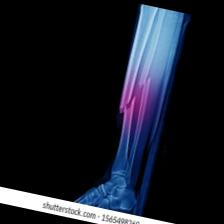open-compound-fracture: (73, 0, 188, 214)
